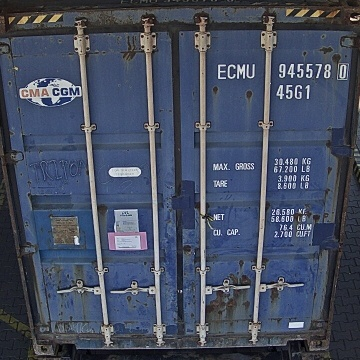serial_id: (218, 63, 348, 79)
